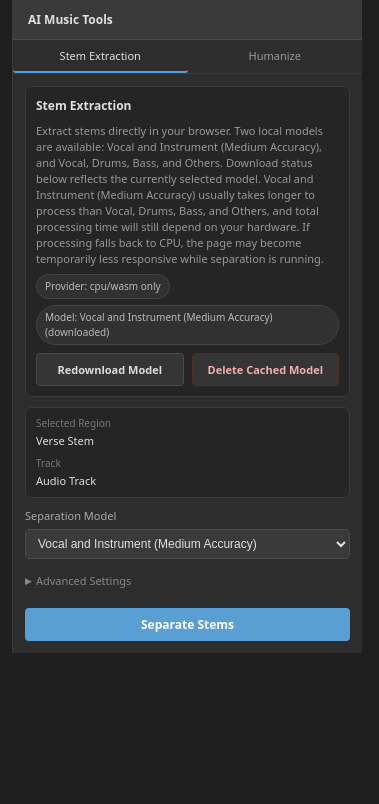
it: KGOnePanel browser stem extraction › shows browser separation failures and allows retrying
Click the button "Separate Stems": point(188, 624) [25,608,350,641]
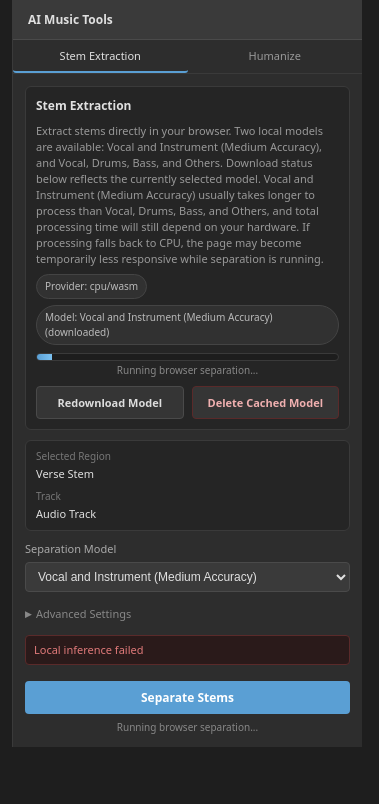
Result: the text "Local inference failed" is shown at [25,635,350,665]
Click the button "Separate Stems": point(188, 698) [25,681,350,714]
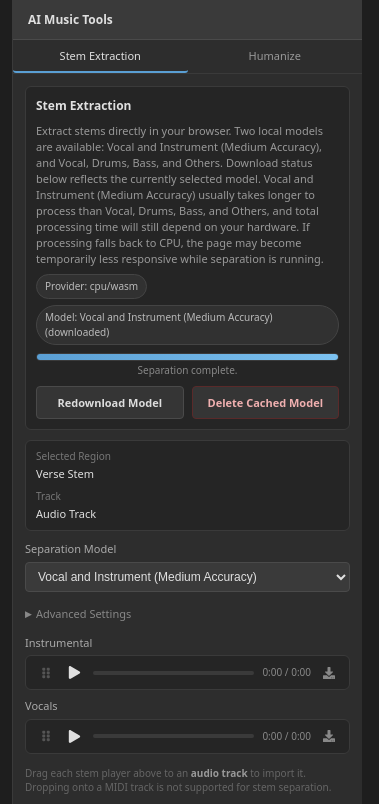
Result: the text "Instrumental" is shown at [25,635,92,650]
Result: the text "Local inference failed" is gone
